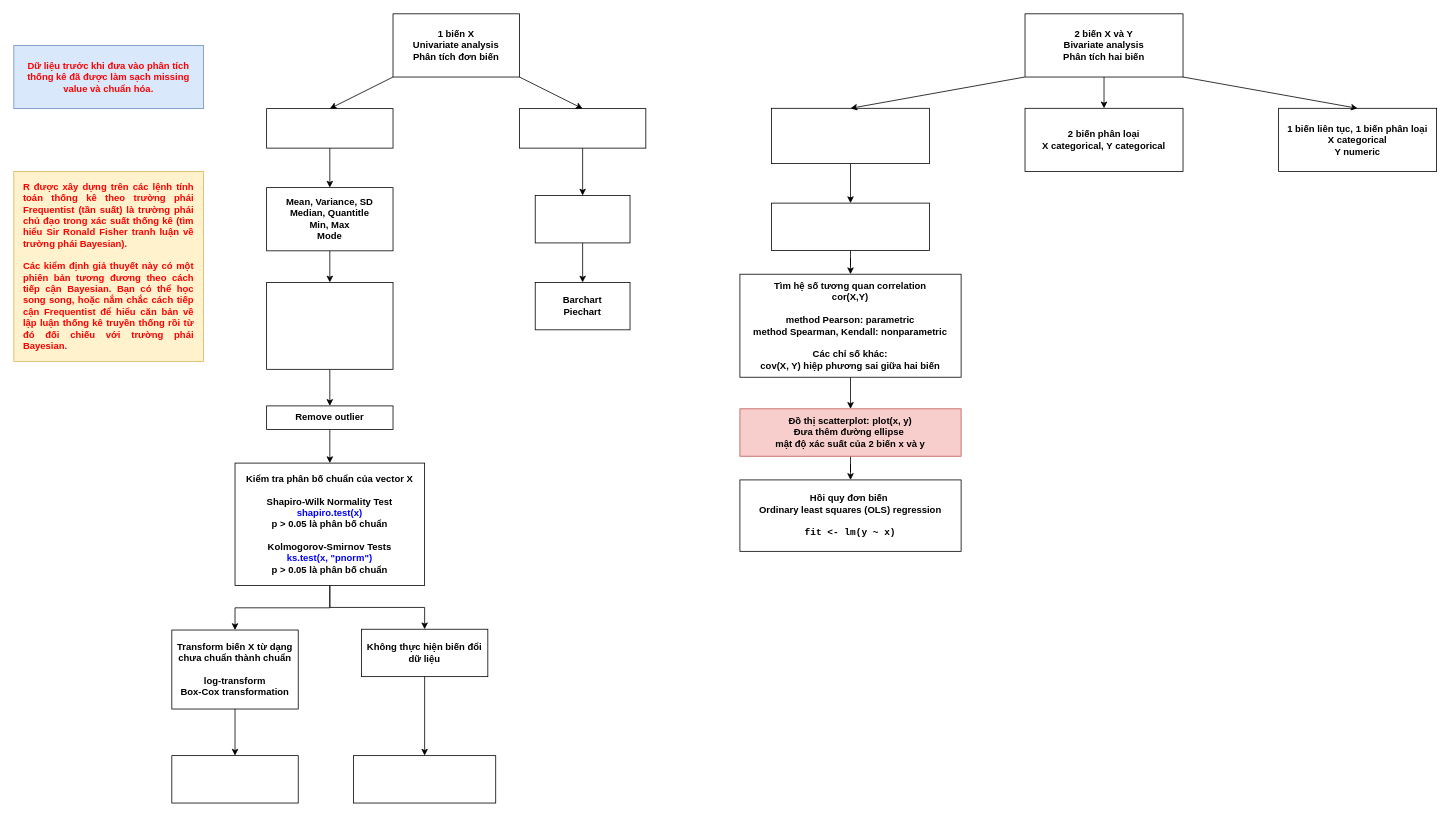
Some shapes in this 1450 by 817 pixel diagram are drawn without their labels. The centre of each missing label's shape, as x and y in pixels:
2 biến liên tục X numeric (chiều cao) Y numeric (cân nặng): point (850, 136)
Biến liên tục (continuous) (chiều cao, cân nặng, độ tuổi, ...): point (329, 128)
Biến phân loại (categorical) (giới tính, màu sắc, thang đo Likert, ...): point (582, 128)
Boxplot Histogram Q-Q plot Distribution Skewness Kurtosis: point (329, 325)
Dữ liệu không phân bố chuẩn nonparametric one sample Wilcoxon test: point (424, 779)
Dữ liệu phân bố chuẩn paramatric one sample t-test: point (234, 779)
Frequency (count) Proportion (percent): point (582, 219)
Kiểm tra riêng biệt đặc trưng dữ liệu của từng biến (Univariate analysis): point (850, 226)
